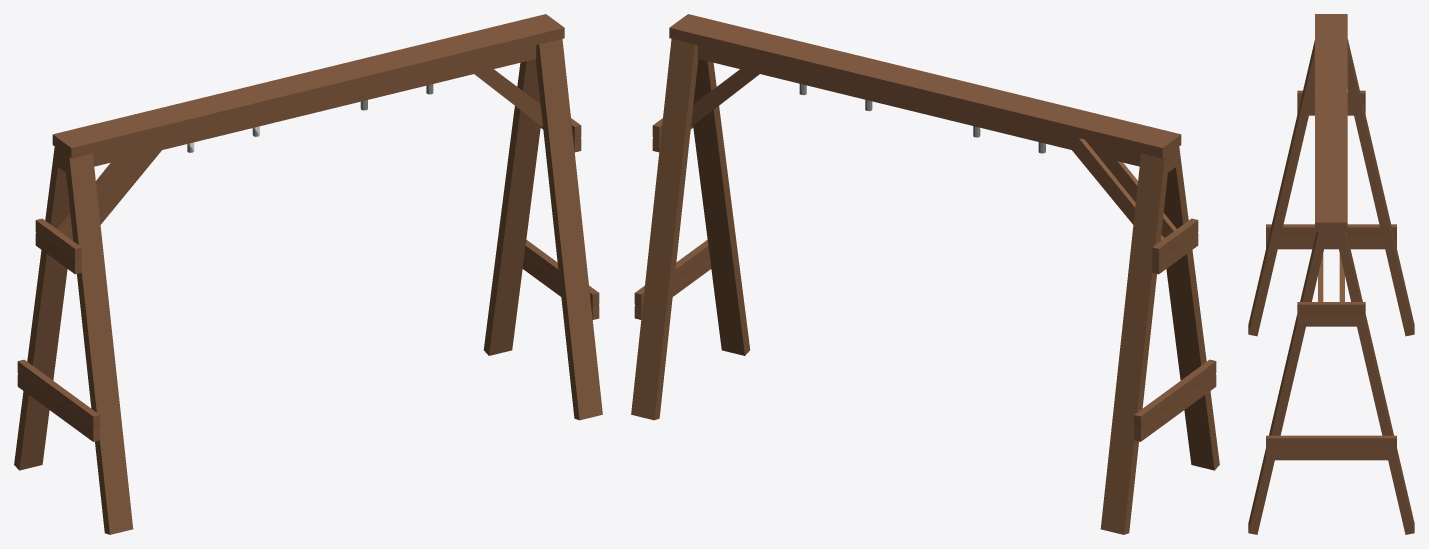
Rendered from swing frame.fbx.
3 views of the same model, side by side, from view 1: azimuth 30°, elevation 25°; view 2: azimuth 150°, elevation 25°; view 3: azimuth 270°, elevation 25° (orthographic). The views are drawn at different scales.
Parts seen in each view (by area): view 1: pCube4, pCube5, pCube1, pCube6, pCube2, pCube3, pCube7, pCube13, pCube8, pCube12, pCube10, pCube14; view 2: pCube4, pCube6, pCube2, pCube5, pCube1, pCube3, pCube7, pCube14, pCube8, pCube11, pCube10, pCube13; view 3: pCube4, pCube2, pCube10, pCube1, pCube6, pCube5, pCube7, pCube9, pCube8, pCube3, pCube12, pCube11.
Boxes of the visible parts, x1=… form: pCube4: x1=52, y1=14, x2=564, y2=158; pCube5: x1=535, y1=39, x2=602, y2=420; pCube1: x1=66, y1=153, x2=133, y2=534; pCube6: x1=483, y1=59, x2=540, y2=355; pCube2: x1=14, y1=147, x2=70, y2=470; pCube3: x1=57, y1=45, x2=536, y2=172; pCube7: x1=17, y1=359, x2=99, y2=441; pCube13: x1=69, y1=133, x2=175, y2=240; pCube8: x1=35, y1=218, x2=81, y2=274; pCube12: x1=461, y1=59, x2=542, y2=126; pCube10: x1=522, y1=240, x2=599, y2=319; pCube14: x1=57, y1=157, x2=134, y2=237; pCube4: x1=669, y1=14, x2=1181, y2=158; pCube6: x1=631, y1=39, x2=698, y2=420; pCube2: x1=1100, y1=153, x2=1167, y2=534; pCube5: x1=693, y1=59, x2=750, y2=355; pCube1: x1=1163, y1=147, x2=1219, y2=470; pCube3: x1=697, y1=45, x2=1176, y2=172; pCube7: x1=1134, y1=359, x2=1216, y2=441; pCube14: x1=1058, y1=133, x2=1164, y2=240; pCube8: x1=1152, y1=218, x2=1198, y2=274; pCube11: x1=691, y1=59, x2=772, y2=126; pCube10: x1=634, y1=240, x2=711, y2=319; pCube13: x1=1099, y1=157, x2=1176, y2=237; pCube4: x1=1315, y1=14, x2=1347, y2=231; pCube2: x1=1347, y1=39, x2=1414, y2=336; pCube10: x1=1266, y1=435, x2=1396, y2=460; pCube1: x1=1248, y1=40, x2=1314, y2=336; pCube6: x1=1338, y1=231, x2=1414, y2=534; pCube5: x1=1248, y1=231, x2=1324, y2=534; pCube7: x1=1266, y1=224, x2=1396, y2=249; pCube9: x1=1297, y1=302, x2=1365, y2=326; pCube8: x1=1297, y1=90, x2=1365, y2=115; pCube3: x1=1323, y1=228, x2=1339, y2=247; pCube12: x1=1318, y1=254, x2=1323, y2=301; pCube11: x1=1339, y1=254, x2=1344, y2=301.
Size of the model in its own units: 14.77 by 10.05 by 4.85.
